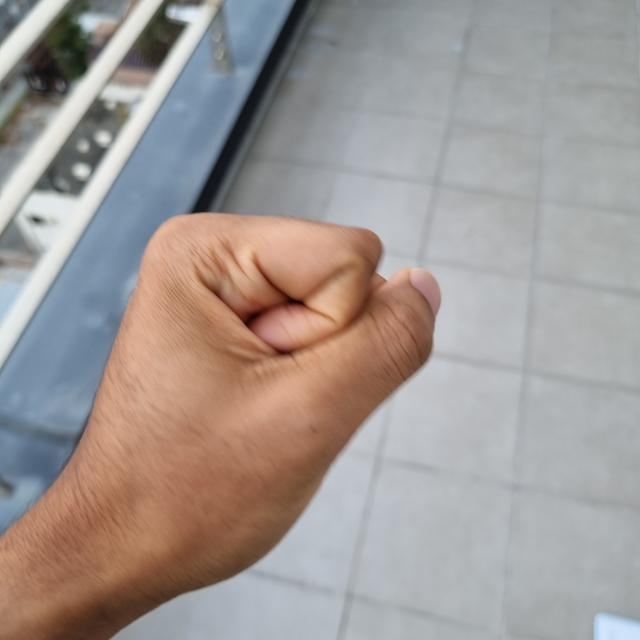Rock: (50, 204, 441, 601)
